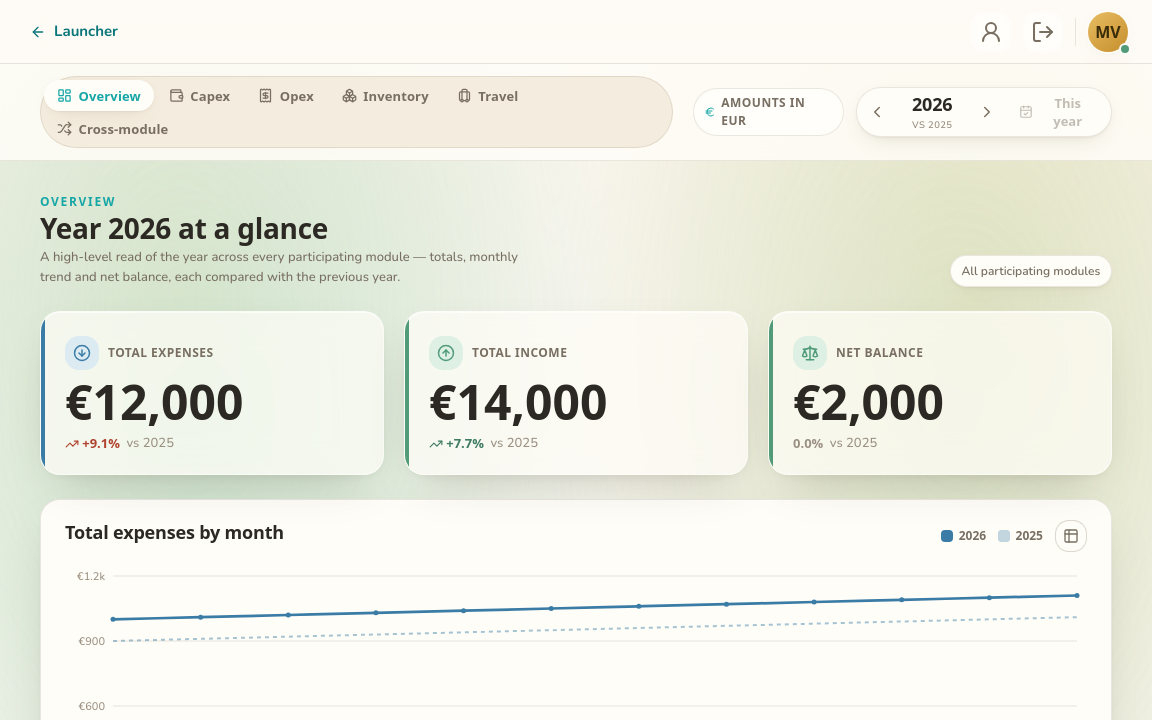
Test: Analytics shell › opens another tab lazily and reflects it in the URL
Step 1. Click the tab "Capex" → click(200, 96), box [156, 80, 243, 111]
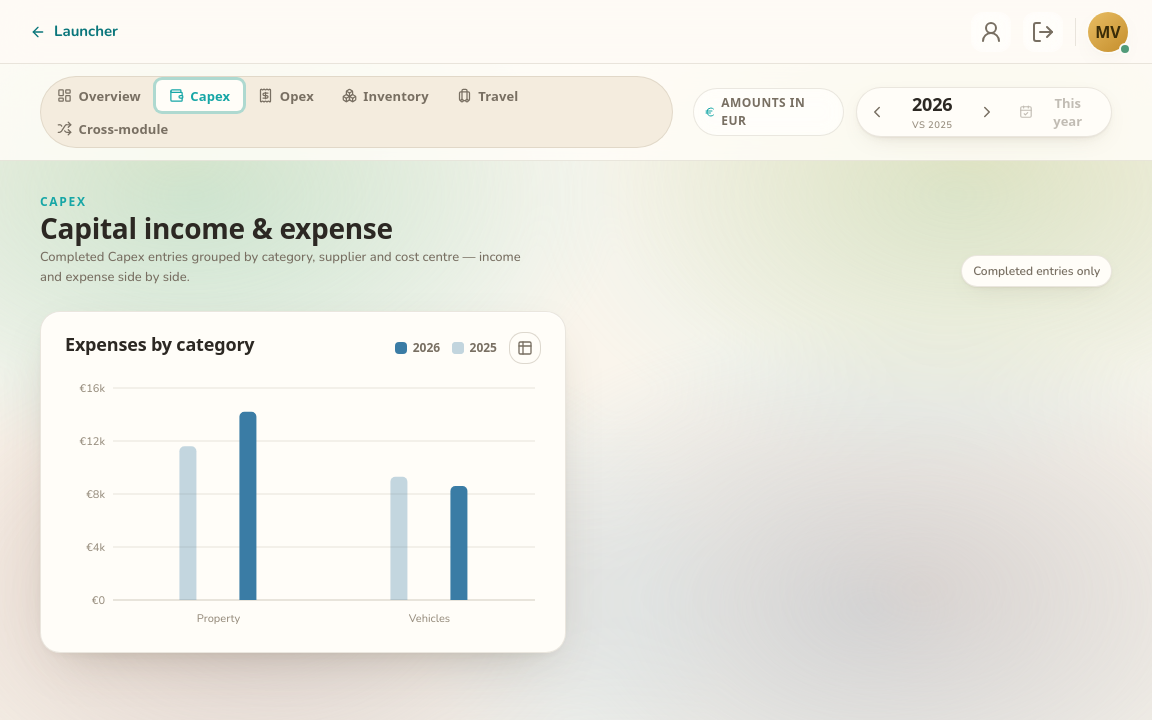
Expected: the picture named "Expenses by category" is shown, [65, 380, 541, 632]
